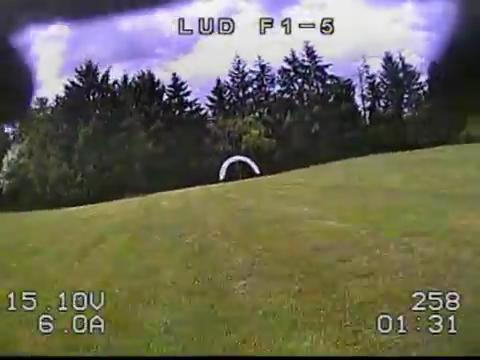gate: (218, 155, 260, 181)
